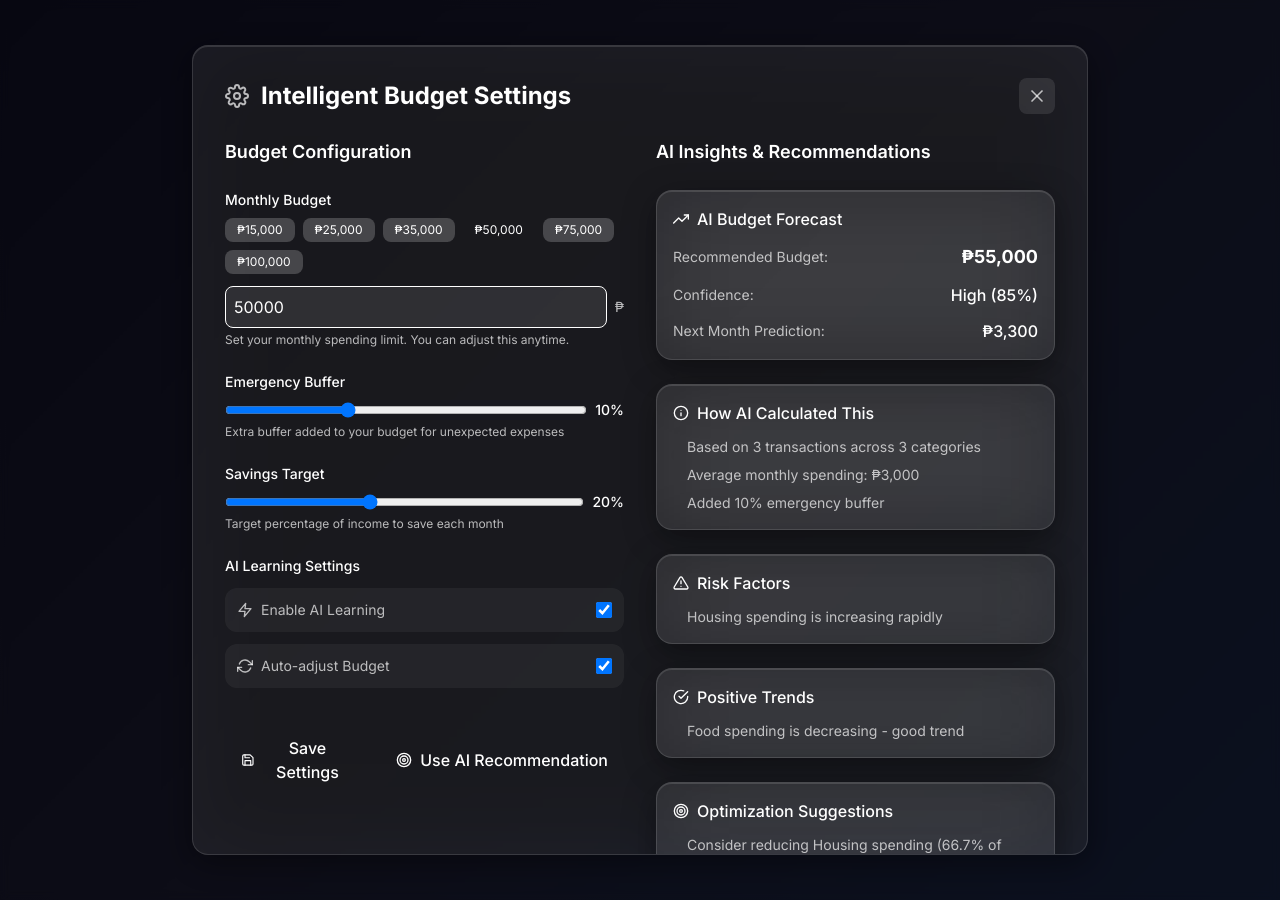
it: BudgetSettings Component › Action Buttons › should reset to AI recommendation when button is clicked
Step 1. Click the button "Use AI Recommendation" → (502, 760), box [380,728,624,792]
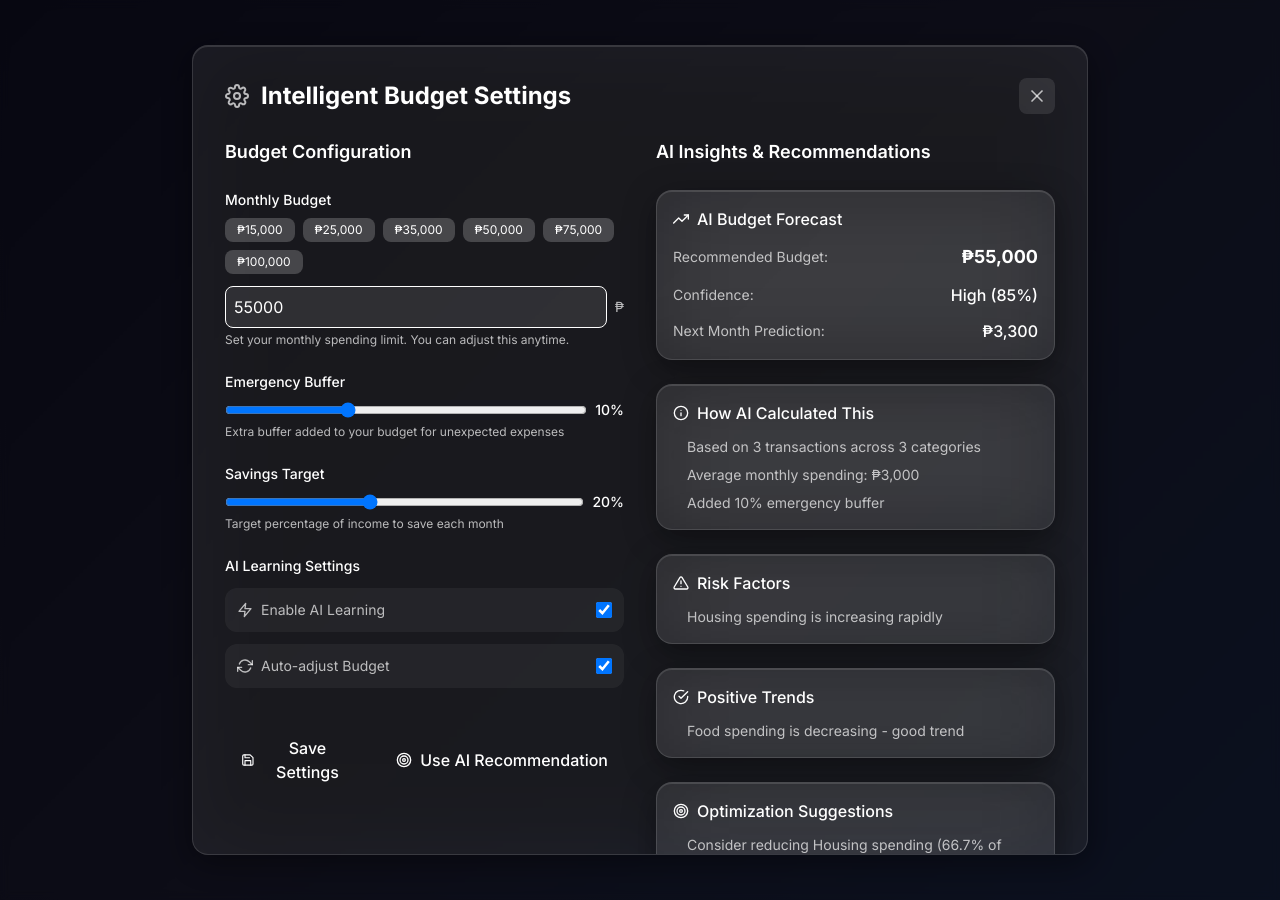
Check: the number field showing "55000" is shown, box [225,286,607,328]
